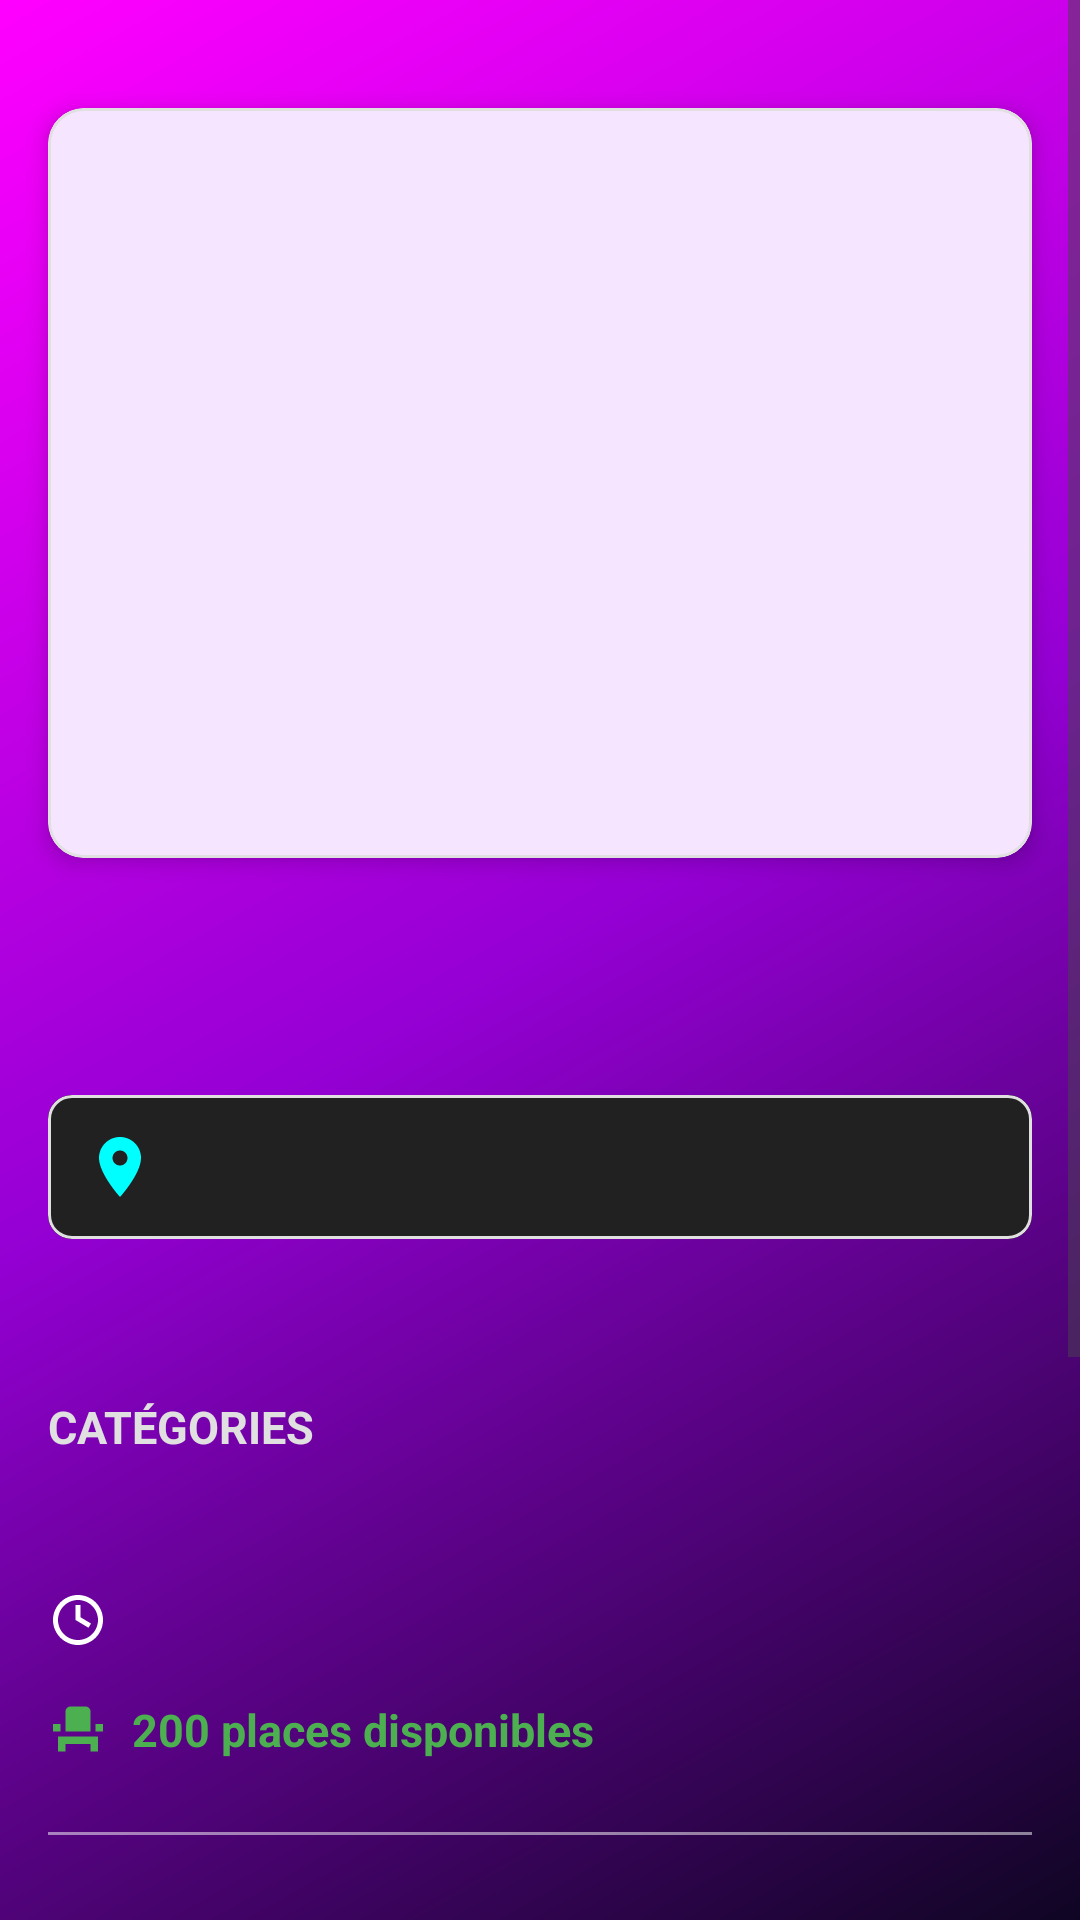

Where to tap for icons on this 1080*1920 app screen, as (x,y):
clock: (78,1620)
location: (120,1167)
seat: (78,1729)
